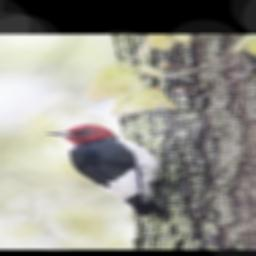Woodpecker: (45, 123, 164, 218)
